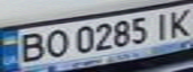0: (72, 24, 96, 55)
2: (93, 20, 115, 52)
5: (127, 15, 154, 45)
8: (112, 17, 136, 48)
B: (12, 29, 51, 64)
I: (148, 10, 175, 40)
K: (163, 6, 193, 37)
O: (39, 27, 72, 60)
